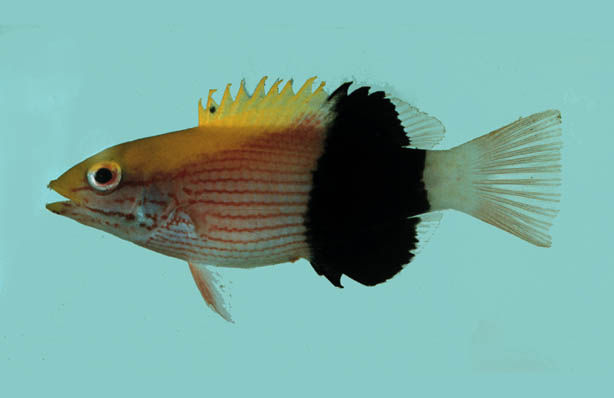fish: (45, 77, 563, 328)
